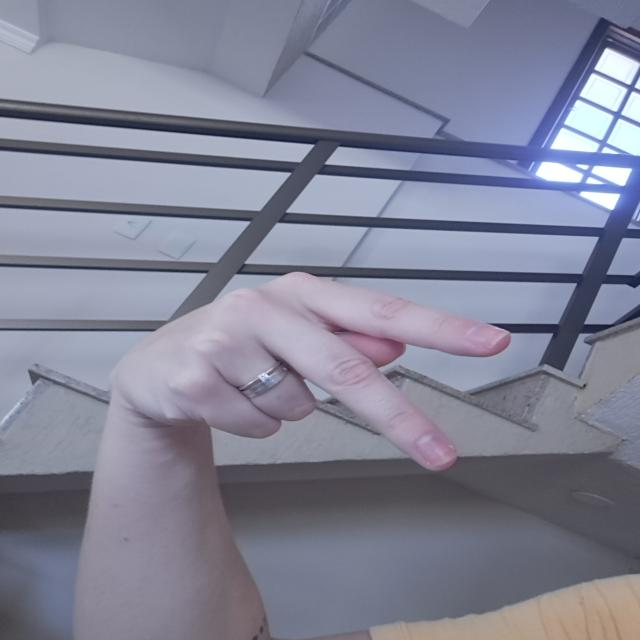P: (97, 264, 523, 476)
